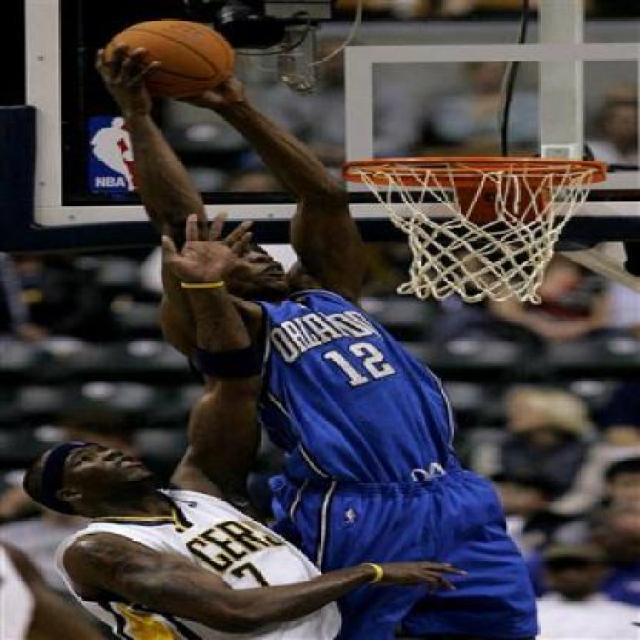basketball: (99, 20, 238, 100)
rim: (340, 158, 602, 304)
